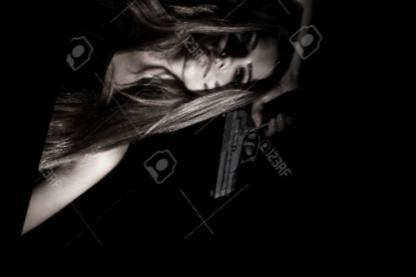pistol: (211, 98, 287, 212)
